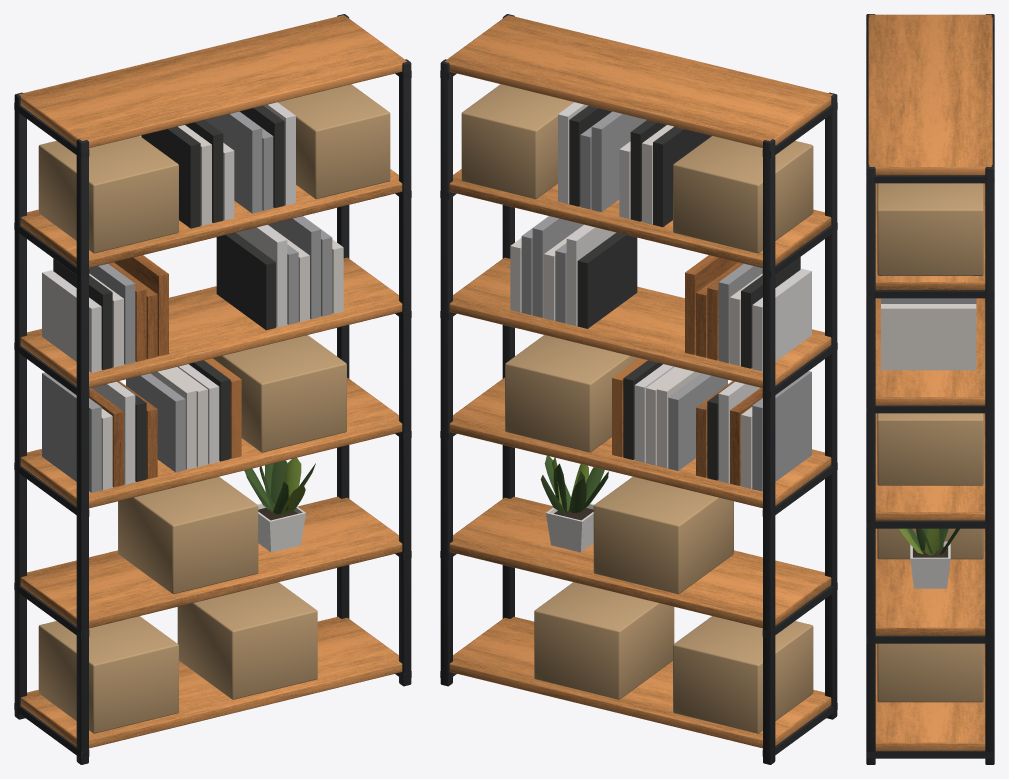
The model's file is storage.bookshelf.glb.
The picture shows the model from 3 angles, left to right: view 1: azimuth 30°, elevation 25°; view 2: azimuth 150°, elevation 25°; view 3: azimuth 270°, elevation 25°; orthographic projection. The views are drawn at different scales.
Parts seen in each view (by area): view 1: storage.bookshelf.001; view 2: storage.bookshelf.001; view 3: storage.bookshelf.001.
Part boxes in pixels (x1,y1,x2,y2): storage.bookshelf.001: (14, 14, 411, 764); storage.bookshelf.001: (440, 14, 837, 764); storage.bookshelf.001: (866, 14, 994, 764).
Bounding box in the file's own units: 1 × 1.8 × 0.35.
Materials: 12 (2 with a texture image).
